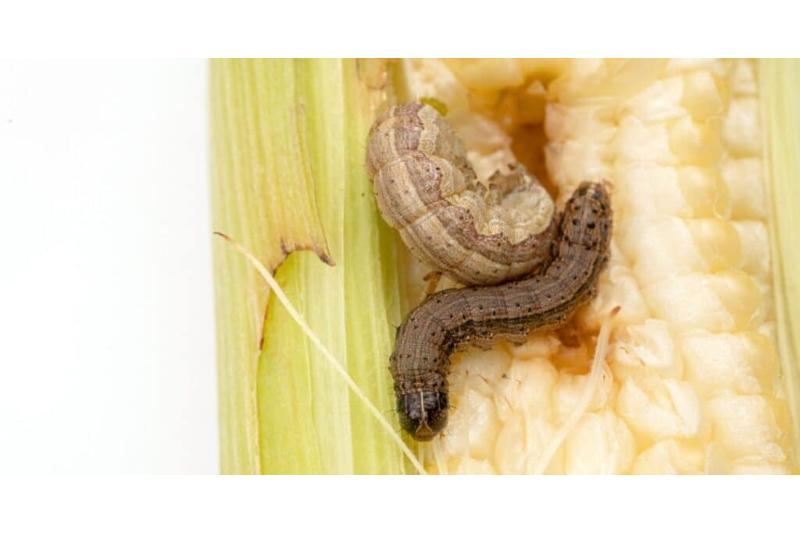fall-armyworm: (389, 182, 614, 444), (368, 104, 556, 287)
